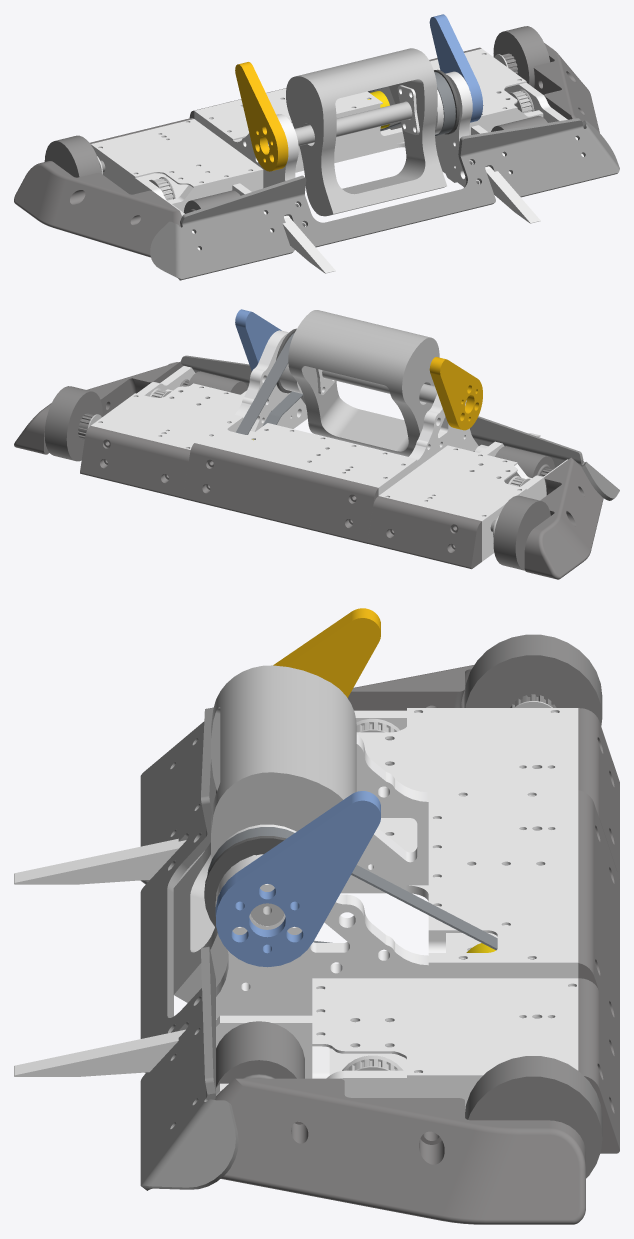
Rendered from robort4.gltf.
3 renders of one model, top to bottom at view 1: azimuth 30°, elevation 25°; view 2: azimuth 150°, elevation 25°; view 3: azimuth 270°, elevation 25°, orthographic. The views are drawn at different scales.
Visible parts, largest first — view 1: Wedge fo real v44, Bottom Plate v97, Eggbeater 7 v16, Side Armor Right (1), hub (×2), bunny ear-Mirrored, Side Armor Right, Feeder Fork (×2), bunny ear, Titanium Shaft v12, hub (1) (×2), Part 8 (+2 smaller); view 2: Bottom Plate v97, Eggbeater 7 v16, Mid Back Armor, Side Armor Right (1), hub (×2), Side Armor (Right), Side Armor (Left), Wedge fo real v44, bunny ear-Mirrored, Side Armor Right, hub (1) (×2), Part 8 (+2 smaller); view 3: Bottom Plate v97, Side Armor Right, Wedge fo real v44, Eggbeater 7 v16, hub (×2), bunny ear, Feeder Fork (×2), Mid Back Armor, Side Armor (Left), bunny ear-Mirrored, hub (1), Side Armor (Right) (+3 smaller).
Part boxes in pixels (x1,y1,x2,y2): Wedge fo real v44: (150,118,619,280); Bottom Plate v97: (90,48,583,250); Eggbeater 7 v16: (286,48,446,216); Side Armor Right (1): (14,161,181,257); hub (×2): (44,26,549,177); bunny ear-Mirrored: (235,62,288,171); Side Armor Right: (533,43,599,132); Feeder Fork (×2): (283,166,540,273); bunny ear: (429,14,482,122); Titanium Shaft v12: (294,101,412,145); hub (1) (×2): (183,115,547,213); Part 8: (368,72,455,135); Bottom Plate v97: (91,330,567,561); Eggbeater 7 v16: (288,310,439,456); Mid Back Armor: (183,443,378,543); Side Armor Right (1): (524,457,603,579); hub (×2): (44,386,550,570); Side Armor (Right): (367,496,481,569); Side Armor (Left): (80,426,190,498); Wedge fo real v44: (168,355,619,500); bunny ear-Mirrored: (429,357,482,430); Side Armor Right: (14,362,183,454); hub (1) (×2): (179,371,554,477); Part 8: (236,333,303,434); Bottom Plate v97: (178,708,578,1111); Side Armor Right: (215,1078,585,1224); Wedge fo real v44: (140,707,238,1190); Eggbeater 7 v16: (173,665,356,1002); hub (×2): (464,634,602,1178); bunny ear: (215,791,380,967); Feeder Fork (×2): (14,838,216,1076); Mid Back Armor: (578,790,619,1051); Side Armor (Left): (578,978,619,1153); bunny ear-Mirrored: (273,608,380,697); hub (1): (216,1021,304,1087); Side Armor (Right): (578,708,619,878).
Size of the model in its own units: 0.67 by 0.1715 by 0.3347.
